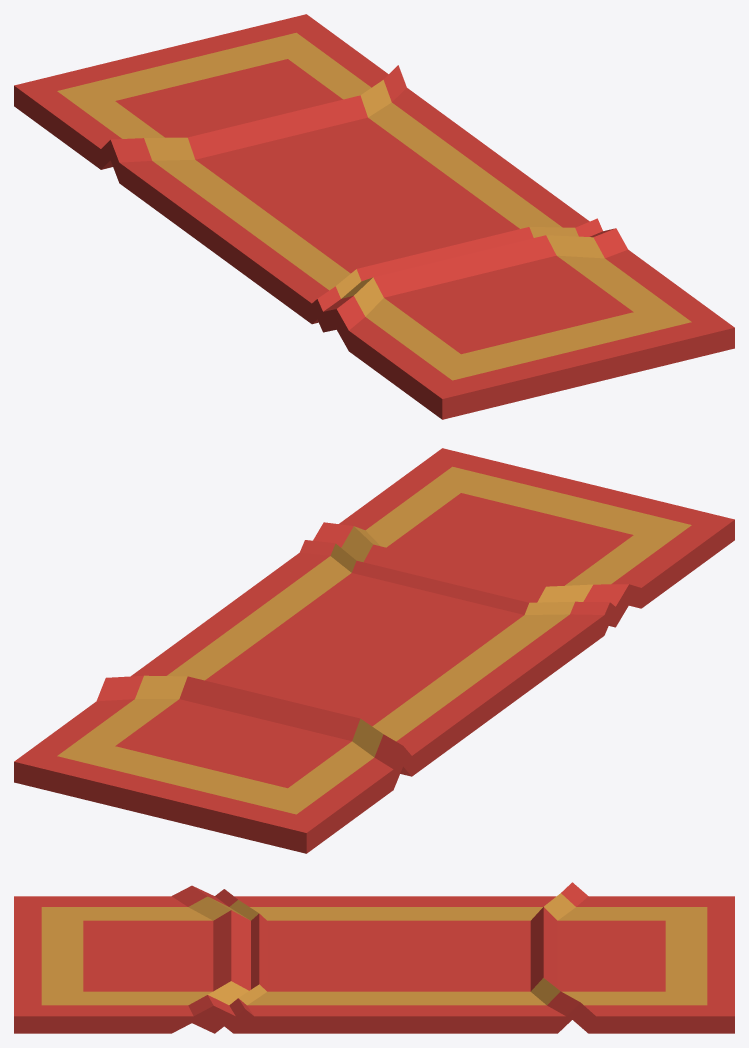
File: quaternius-modular-dungeon-carpet.glb
3 views of the same model, one above another, from view 1: azimuth 30°, elevation 25°; view 2: azimuth 150°, elevation 25°; view 3: azimuth 270°, elevation 25° (orthographic). The views are drawn at different scales.
Parts seen in each view (by area): view 1: Carpet; view 2: Carpet; view 3: Carpet.
Part boxes in pixels (left/top/right/bottom): Carpet: left=14, top=14, right=734, bottom=419; Carpet: left=14, top=448, right=734, bottom=853; Carpet: left=14, top=882, right=734, bottom=1033.
Bounding box in the file's own units: 2.11 × 0.258 × 5.35.
